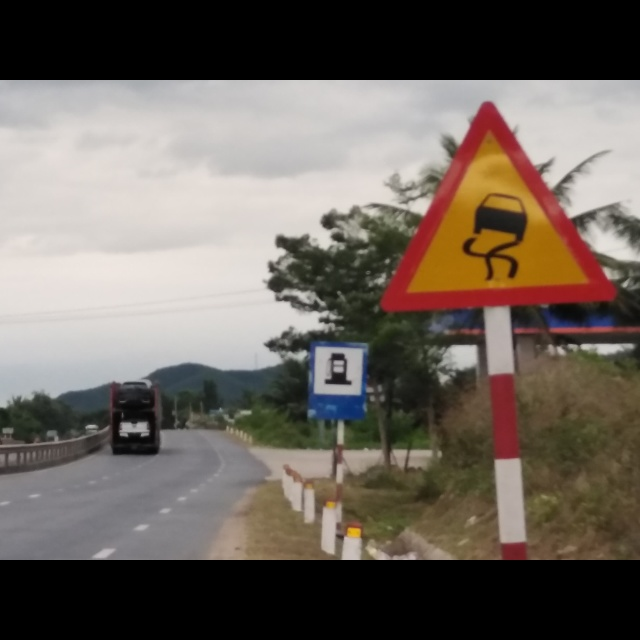Đường trơn trượt: (374, 101, 621, 316)
